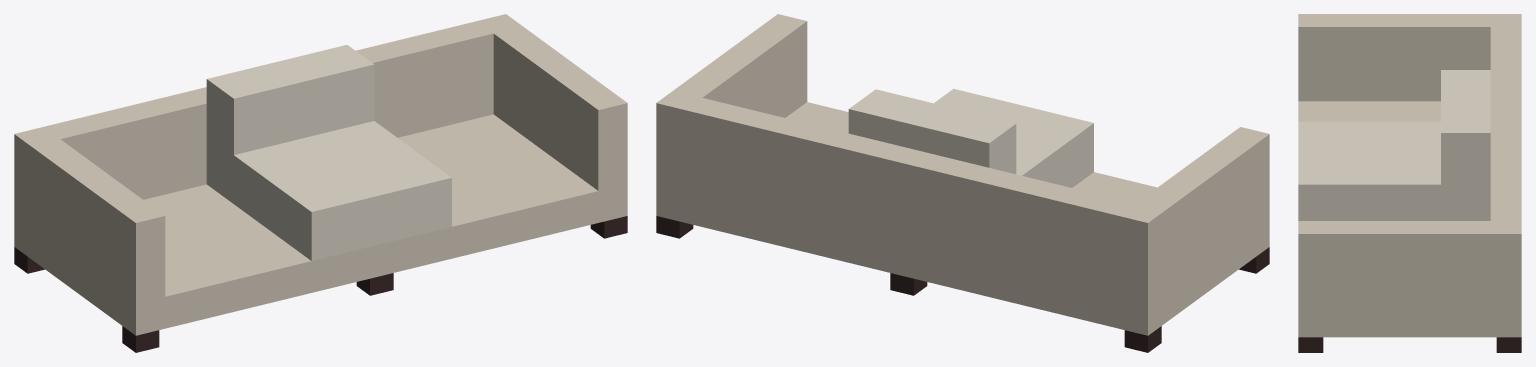
The picture shows the model from 3 angles, left to right: view 1: azimuth 30°, elevation 25°; view 2: azimuth 150°, elevation 25°; view 3: azimuth 270°, elevation 25°; orthographic projection. The views are drawn at different scales.
Visible parts, largest first — view 1: Base, SeatCushion1, Back, ArmLeft, ArmRight, BackCushion1, CornerLegs, CentreLegs; view 2: Back, Base, ArmLeft, ArmRight, BackCushion1, SeatCushion1, CornerLegs, CentreLegs; view 3: ArmRight, SeatCushion1, ArmLeft, Base, Back, BackCushion1, CornerLegs.
Boxes of the visible parts, <box> form: Base: <box>14,114,627,335</box>; SeatCushion1: <box>206,121,451,260</box>; Back: <box>44,21,493,199</box>; ArmLeft: <box>14,127,165,335</box>; ArmRight: <box>477,14,627,222</box>; BackCushion1: <box>206,45,374,154</box>; CornerLegs: <box>14,216,627,352</box>; CentreLegs: <box>356,273,393,295</box>; Back: <box>685,98,1135,296</box>; Base: <box>656,102,1269,335</box>; ArmLeft: <box>1118,127,1269,335</box>; ArmRight: <box>656,14,807,222</box>; BackCushion1: <box>848,89,1016,174</box>; SeatCushion1: <box>934,88,1093,187</box>; CornerLegs: <box>656,216,1269,352</box>; CentreLegs: <box>890,273,927,295</box>; ArmRight: <box>1298,221,1521,337</box>; SeatCushion1: <box>1298,121,1490,220</box>; ArmLeft: <box>1298,14,1521,101</box>; Base: <box>1298,101,1521,337</box>; Back: <box>1490,27,1521,220</box>; BackCushion1: <box>1441,70,1490,184</box>; CornerLegs: <box>1298,337,1521,352</box>.
Bounding box in the file's own units: 2.1 × 0.63 × 0.9.
